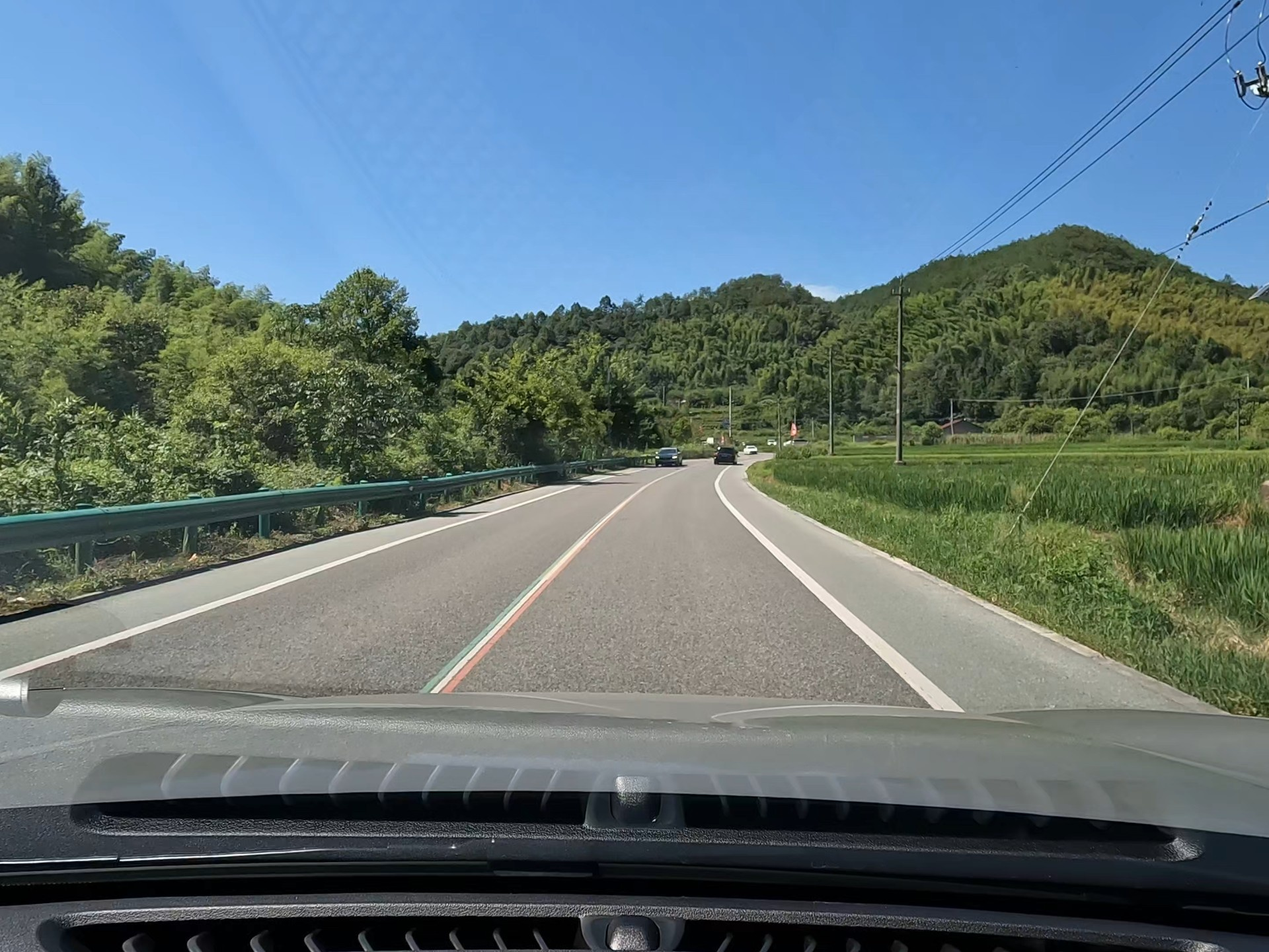lane: (19, 475, 601, 678), (421, 465, 697, 694), (705, 469, 958, 718)
